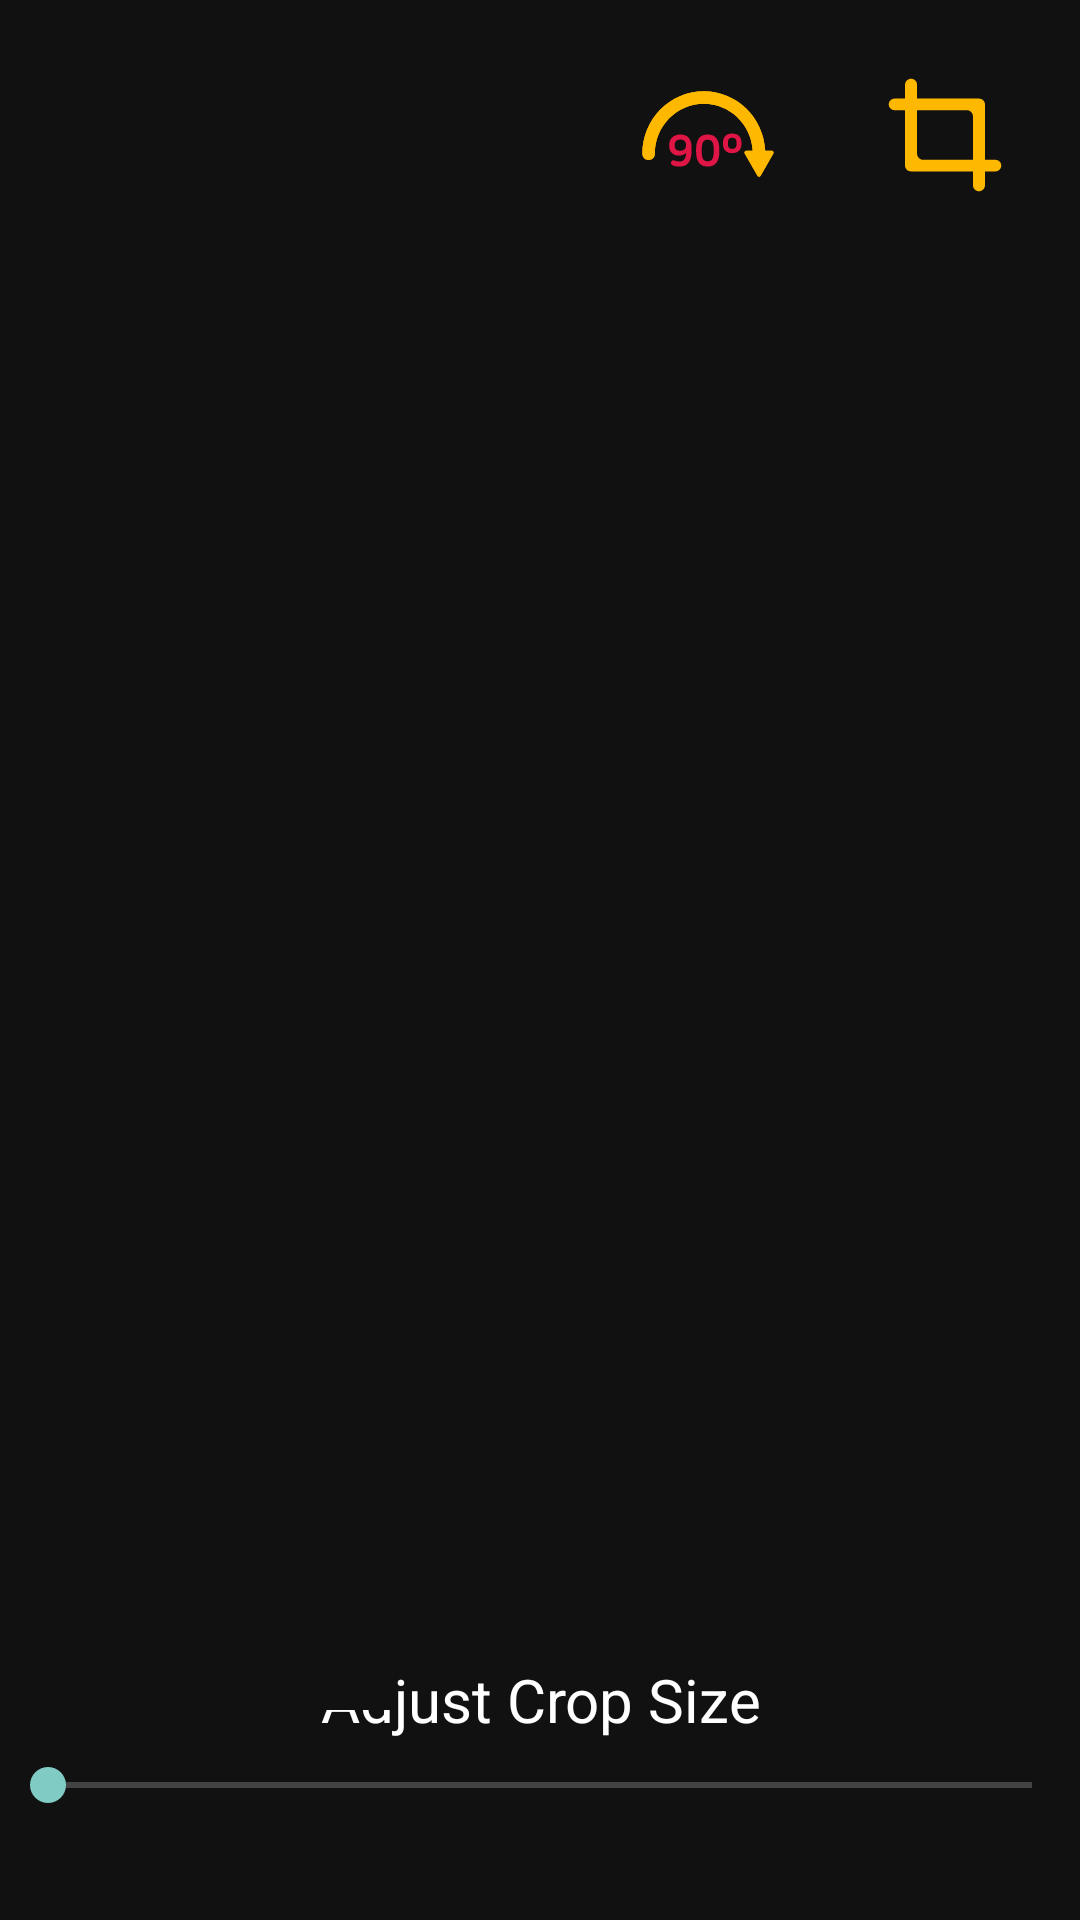

Screen size 1080 × 1920. Icon name, then its center in pixels as point (x, y):
crop: point (945, 135)
dgree rotation: point (708, 134)
